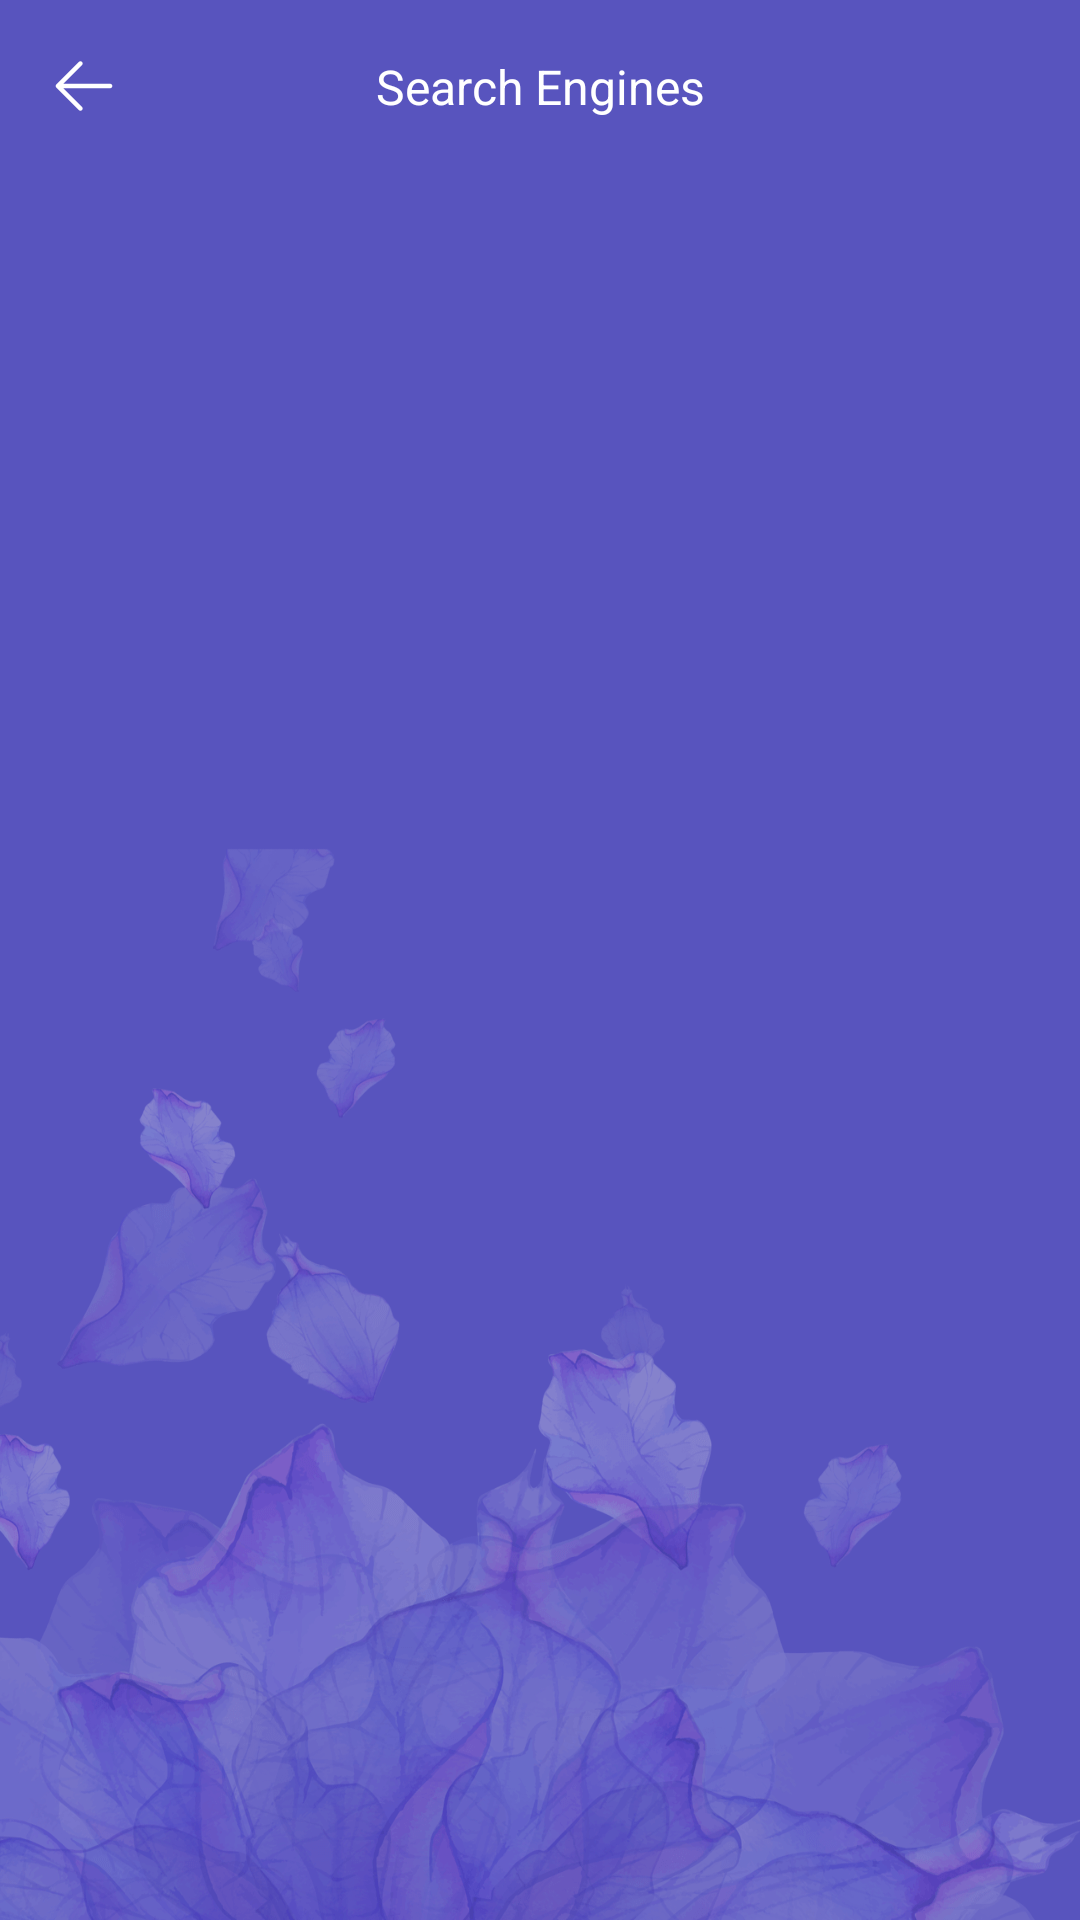

Icon click points for this 1080px x 1920px phone screenshot, format point (x, y):
back: point (84, 86)
